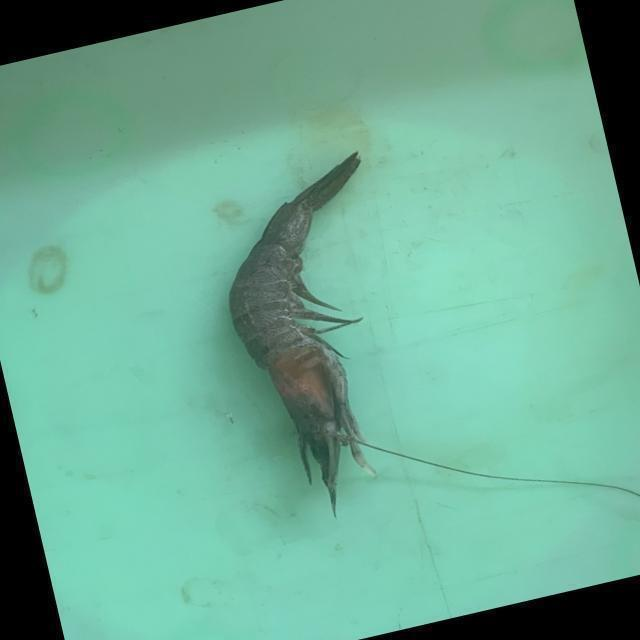shrimp: (230, 152, 375, 513)
